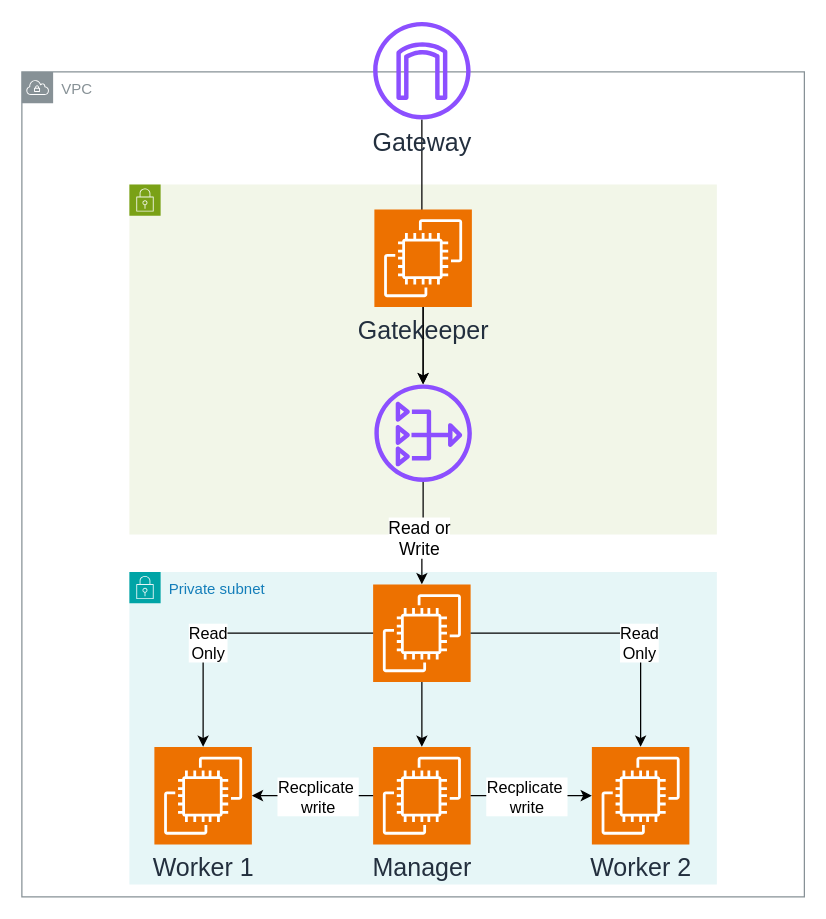
Image size: 826x919. Some labels were removed from this diagram. The box of each missing label's shape, as (x1, y1, x2, y2) in pixels:
NAT: (374, 384, 471, 481)
Proxy: (372, 583, 471, 682)
Public subnet: (128, 183, 717, 534)
